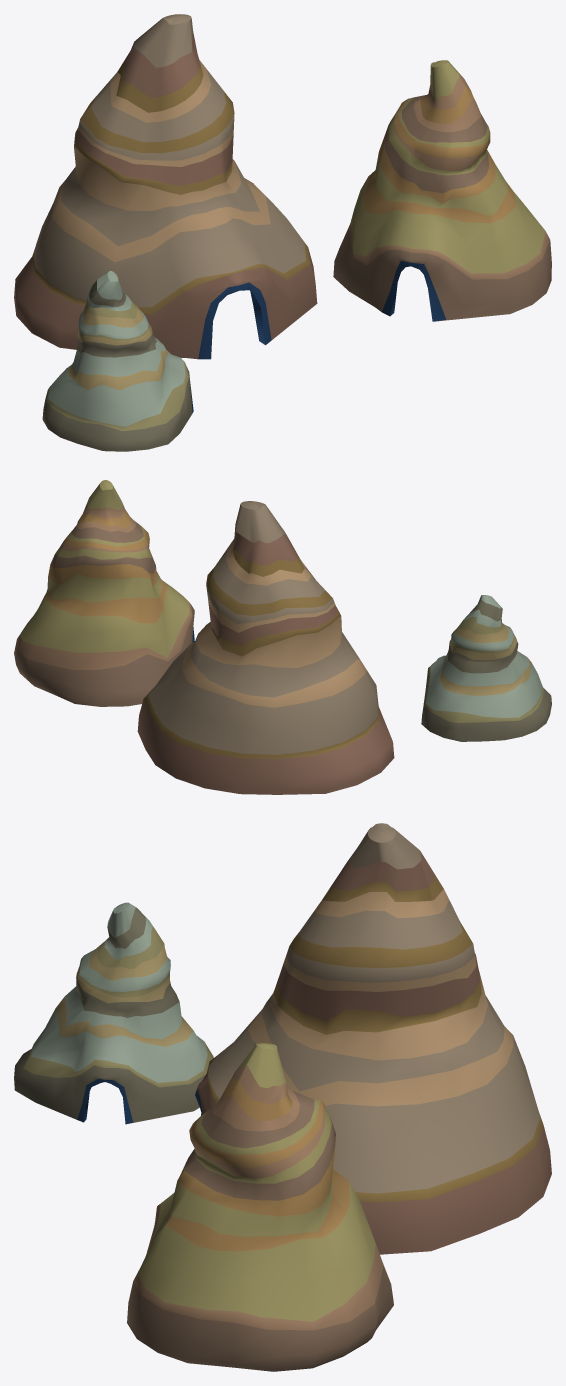
File: HutCluster.fbx
The picture shows the model from 3 angles, top to bottom: view 1: azimuth 30°, elevation 25°; view 2: azimuth 150°, elevation 25°; view 3: azimuth 270°, elevation 25°; orthographic projection. The views are drawn at different scales.
Visible parts, largest first — view 1: BigHut, MediumHut, SmallHut; view 2: BigHut, MediumHut, SmallHut; view 3: BigHut, MediumHut, SmallHut.
Boxes of the visible parts, x1,y1,x2,y2 form: BigHut: [14, 14, 317, 359]; MediumHut: [333, 60, 551, 321]; SmallHut: [42, 271, 193, 451]; BigHut: [137, 501, 394, 794]; MediumHut: [14, 480, 194, 706]; SmallHut: [421, 595, 551, 741]; BigHut: [195, 823, 551, 1254]; MediumHut: [127, 1043, 393, 1371]; SmallHut: [14, 902, 213, 1124].
Size of the model in its own units: 146 by 73.04 by 100.
